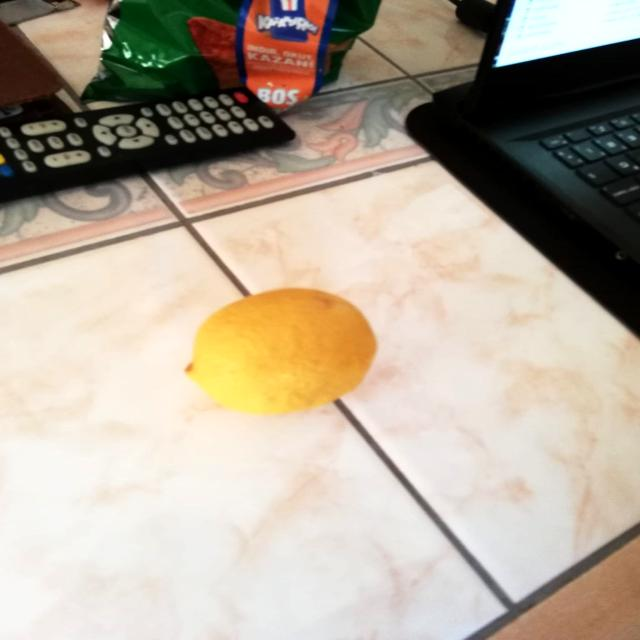lemon: (172, 283, 389, 421)
